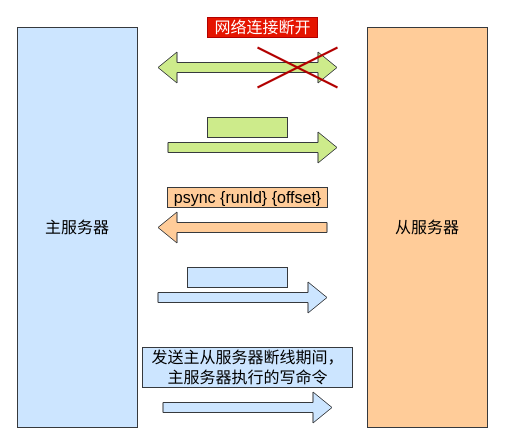
Some shapes in this 505 by 445 pixel diagram are drawn without their labels. The centre of each missing label's shape, as x and y in pixels:
CONTINUE: the point at 237,277
连接恢复: the point at 247,127
